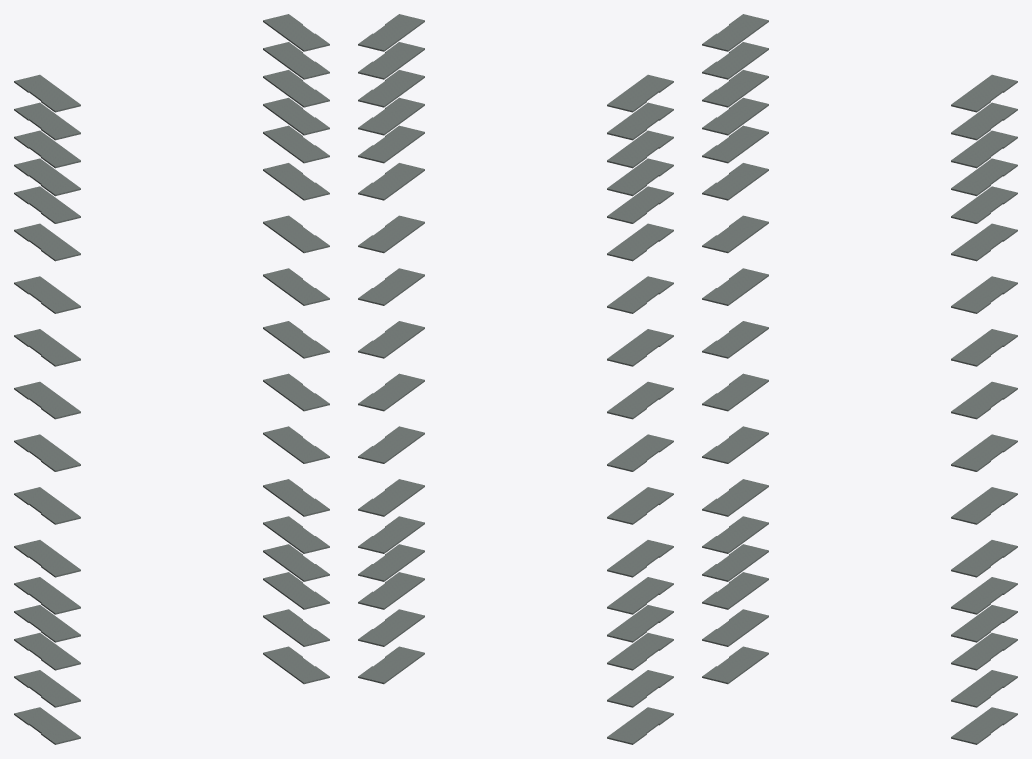
File: AST-STF-G3-035.glb
The picture shows the model from 3 angles, left to right: view 1: azimuth 30°, elevation 25°; view 2: azimuth 150°, elevation 25°; view 3: azimuth 330°, elevation 25°; orthographic projection.
Parts seen in each view (by area): view 1: floor_staff_floor_port_service_riser_5_D14, floor_staff_floor_starboard_service_riser_5_D14, floor_staff_floor_port_service_riser_5_D01, floor_staff_floor_port_service_riser_5_D17, floor_staff_floor_starboard_service_riser_5_D01, floor_staff_floor_starboard_service_riser_5_D11, floor_staff_floor_starboard_service_riser_5_D17, floor_staff_floor_port_service_riser_5_D02, floor_staff_floor_port_service_riser_5_D09, floor_staff_floor_port_service_riser_5_D10, floor_staff_floor_port_service_riser_5_D11, floor_staff_floor_port_service_riser_5_D12 (+22 smaller); view 2: floor_staff_floor_port_service_riser_5_D14, floor_staff_floor_starboard_service_riser_5_D14, floor_staff_floor_port_service_riser_5_D01, floor_staff_floor_port_service_riser_5_D17, floor_staff_floor_starboard_service_riser_5_D01, floor_staff_floor_starboard_service_riser_5_D11, floor_staff_floor_starboard_service_riser_5_D17, floor_staff_floor_port_service_riser_5_D02, floor_staff_floor_port_service_riser_5_D09, floor_staff_floor_port_service_riser_5_D10, floor_staff_floor_port_service_riser_5_D11, floor_staff_floor_port_service_riser_5_D12 (+22 smaller); view 3: floor_staff_floor_port_service_riser_5_D14, floor_staff_floor_starboard_service_riser_5_D14, floor_staff_floor_port_service_riser_5_D01, floor_staff_floor_port_service_riser_5_D11, floor_staff_floor_port_service_riser_5_D17, floor_staff_floor_starboard_service_riser_5_D01, floor_staff_floor_starboard_service_riser_5_D17, floor_staff_floor_port_service_riser_5_D02, floor_staff_floor_port_service_riser_5_D06, floor_staff_floor_port_service_riser_5_D08, floor_staff_floor_port_service_riser_5_D09, floor_staff_floor_port_service_riser_5_D13 (+22 smaller).
Boxes of the visible parts, x1,y1,x2,y2 form: floor_staff_floor_port_service_riser_5_D14: (14,158,80,196); floor_staff_floor_starboard_service_riser_5_D14: (263,97,329,135); floor_staff_floor_port_service_riser_5_D01: (14,707,80,744); floor_staff_floor_port_service_riser_5_D17: (14,74,80,112); floor_staff_floor_starboard_service_riser_5_D01: (263,646,329,684); floor_staff_floor_starboard_service_riser_5_D11: (263,215,329,253); floor_staff_floor_starboard_service_riser_5_D17: (263,14,329,51); floor_staff_floor_port_service_riser_5_D02: (14,670,80,707); floor_staff_floor_port_service_riser_5_D09: (14,381,80,419); floor_staff_floor_port_service_riser_5_D10: (14,329,80,366); floor_staff_floor_port_service_riser_5_D11: (14,276,80,313); floor_staff_floor_port_service_riser_5_D12: (14,223,80,261); floor_staff_floor_port_service_riser_5_D14: (607,158,673,196); floor_staff_floor_starboard_service_riser_5_D14: (358,97,424,135); floor_staff_floor_port_service_riser_5_D01: (607,707,673,744); floor_staff_floor_port_service_riser_5_D17: (607,74,673,112); floor_staff_floor_starboard_service_riser_5_D01: (358,646,424,684); floor_staff_floor_starboard_service_riser_5_D11: (358,215,424,253); floor_staff_floor_starboard_service_riser_5_D17: (358,14,424,51); floor_staff_floor_port_service_riser_5_D02: (607,670,673,707); floor_staff_floor_port_service_riser_5_D09: (607,381,673,419); floor_staff_floor_port_service_riser_5_D10: (607,329,673,366); floor_staff_floor_port_service_riser_5_D11: (607,276,673,313); floor_staff_floor_port_service_riser_5_D12: (607,223,673,261); floor_staff_floor_port_service_riser_5_D14: (702,97,768,135); floor_staff_floor_starboard_service_riser_5_D14: (951,158,1017,196); floor_staff_floor_port_service_riser_5_D01: (702,646,768,684); floor_staff_floor_port_service_riser_5_D11: (702,215,768,253); floor_staff_floor_port_service_riser_5_D17: (702,14,768,51); floor_staff_floor_starboard_service_riser_5_D01: (951,707,1017,744); floor_staff_floor_starboard_service_riser_5_D17: (951,74,1017,112); floor_staff_floor_port_service_riser_5_D02: (702,609,768,646); floor_staff_floor_port_service_riser_5_D06: (702,479,768,516); floor_staff_floor_port_service_riser_5_D08: (702,373,768,411); floor_staff_floor_port_service_riser_5_D09: (702,321,768,358); floor_staff_floor_port_service_riser_5_D13: (702,125,768,163).
Bounding box in the file's own units: 46.36 × 102 × 12.
1 material, 1 textured.
